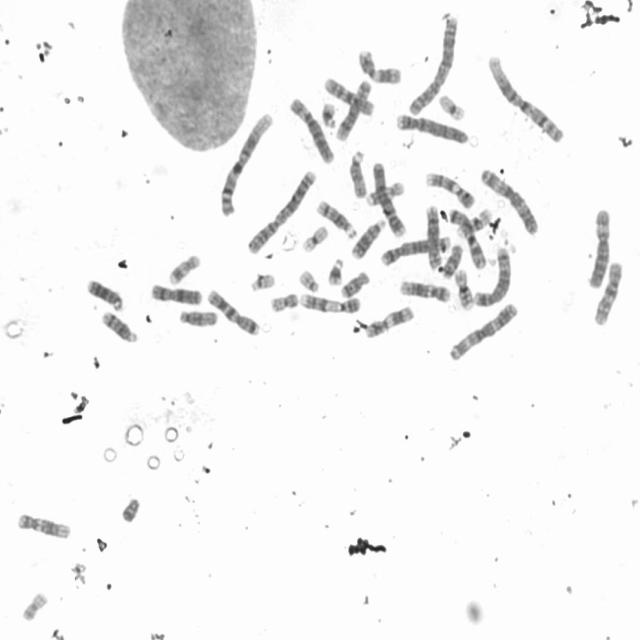A1: (484, 50, 566, 145), (217, 108, 275, 218)
A2: (244, 166, 319, 256), (405, 11, 460, 118)
A3: (445, 298, 520, 362), (477, 163, 541, 236)
B4: (368, 156, 408, 238), (393, 110, 470, 146)
B5: (472, 243, 514, 308), (377, 231, 452, 267)
C10: (321, 72, 376, 117), (591, 257, 626, 327)
C11: (361, 302, 416, 339), (355, 44, 404, 85)
C12: (14, 508, 73, 540), (397, 275, 452, 304)
C6: (288, 92, 337, 165), (583, 203, 613, 290)
C7: (204, 285, 262, 337), (445, 203, 487, 270)
C8: (333, 75, 373, 141), (422, 200, 444, 269)
C9: (422, 168, 476, 210), (296, 287, 363, 316)
D13: (350, 214, 388, 260), (84, 274, 125, 311)
D14: (314, 196, 358, 240), (98, 306, 140, 344)
D15: (346, 145, 368, 200), (176, 305, 219, 328)
E16: (454, 203, 494, 239), (451, 265, 476, 311)
E17: (165, 250, 202, 286), (362, 176, 406, 206)
E18: (337, 266, 371, 298), (438, 240, 464, 279)
F19: (435, 90, 468, 122), (299, 221, 330, 254)
F20: (19, 587, 50, 623), (266, 288, 300, 313)
G21: (324, 253, 346, 287), (318, 99, 338, 129)
G22: (247, 268, 277, 292), (296, 265, 321, 293)
X: (148, 279, 205, 306)
Y: (118, 493, 142, 524)
